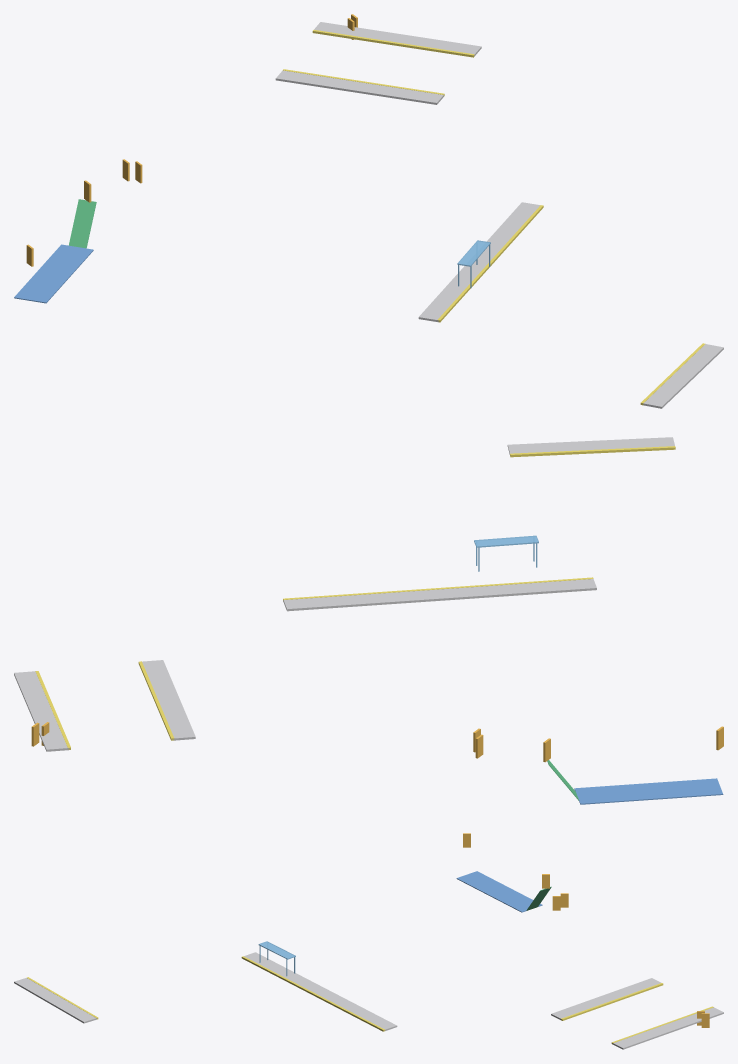
File: 8587479-bern-schosshalde.glb
3 renders of one model, top to bottom at view 1: azimuth 30°, elevation 25°; view 2: azimuth 150°, elevation 25°; view 3: azimuth 270°, elevation 25°, orthographic. The views are drawn at different scales.
Visible parts, largest first — view 1: platform_body@0, passage@-1, boarding_edge@0, stairs@x, access_point@0; view 2: platform_body@0, passage@-1, boarding_edge@0, access_point@0, shelter@0; view 3: platform_body@0, boarding_edge@0, passage@-1, access_point@0, shelter@0.
Boxes of the visible parts, x1,y1,x2,y2 form: platform_body@0: (275, 22, 723, 408); passage@-1: (14, 244, 93, 303); boarding_edge@0: (283, 30, 705, 405); stairs@x: (68, 199, 96, 248); access_point@0: (26, 14, 357, 266); platform_body@0: (14, 437, 674, 751); passage@-1: (574, 778, 723, 804); boarding_edge@0: (35, 446, 675, 749); access_point@0: (31, 722, 723, 762); shelter@0: (474, 535, 538, 571); platform_body@0: (14, 952, 723, 1049); boarding_edge@0: (27, 956, 713, 1044); passage@-1: (456, 871, 542, 912); access_point@0: (463, 833, 709, 1027); shelter@0: (258, 941, 295, 976).
Size of the model in its own units: 75.11 by 7.62 by 107.
